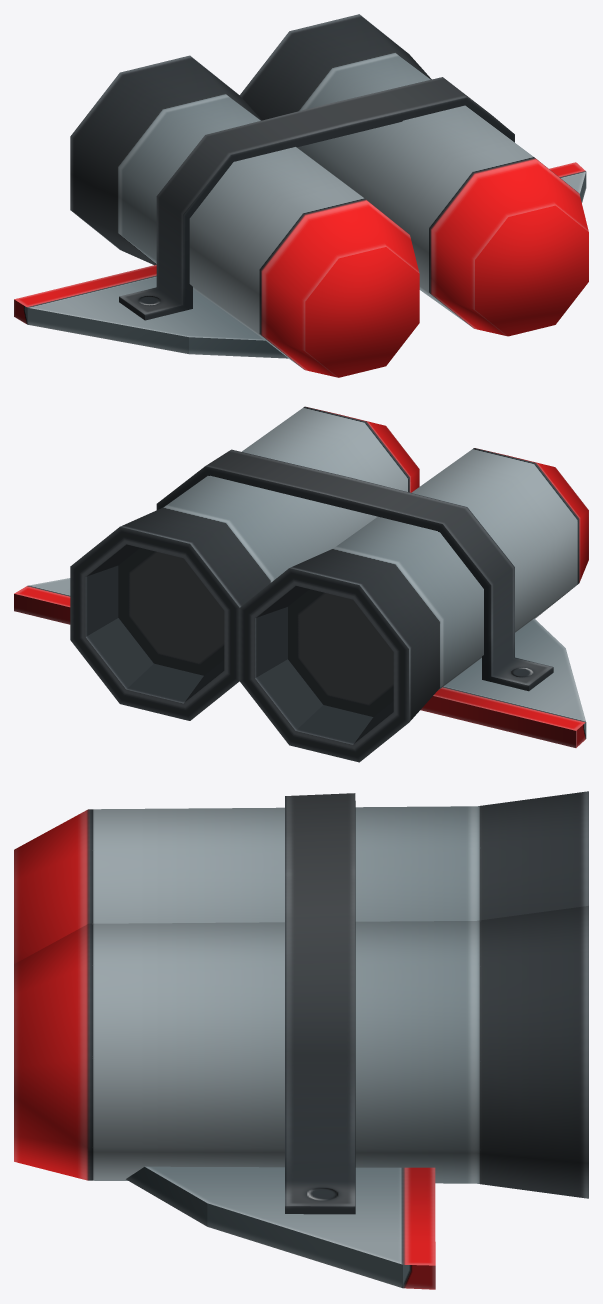
File: item_boost1.FBX
3 renders of one model, top to bottom at view 1: azimuth 30°, elevation 25°; view 2: azimuth 150°, elevation 25°; view 3: azimuth 270°, elevation 25°, orthographic. The views are drawn at different scales.
Visible parts, largest first — view 1: item_boost002; view 2: item_boost002; view 3: item_boost002.
Part boxes in pixels (x1,y1,x2,y2): item_boost002: (14, 14, 588, 377); item_boost002: (14, 406, 588, 762); item_boost002: (14, 791, 588, 1289).
Size of the model in its own units: 0.2735 by 0.0825 by 0.1749.
